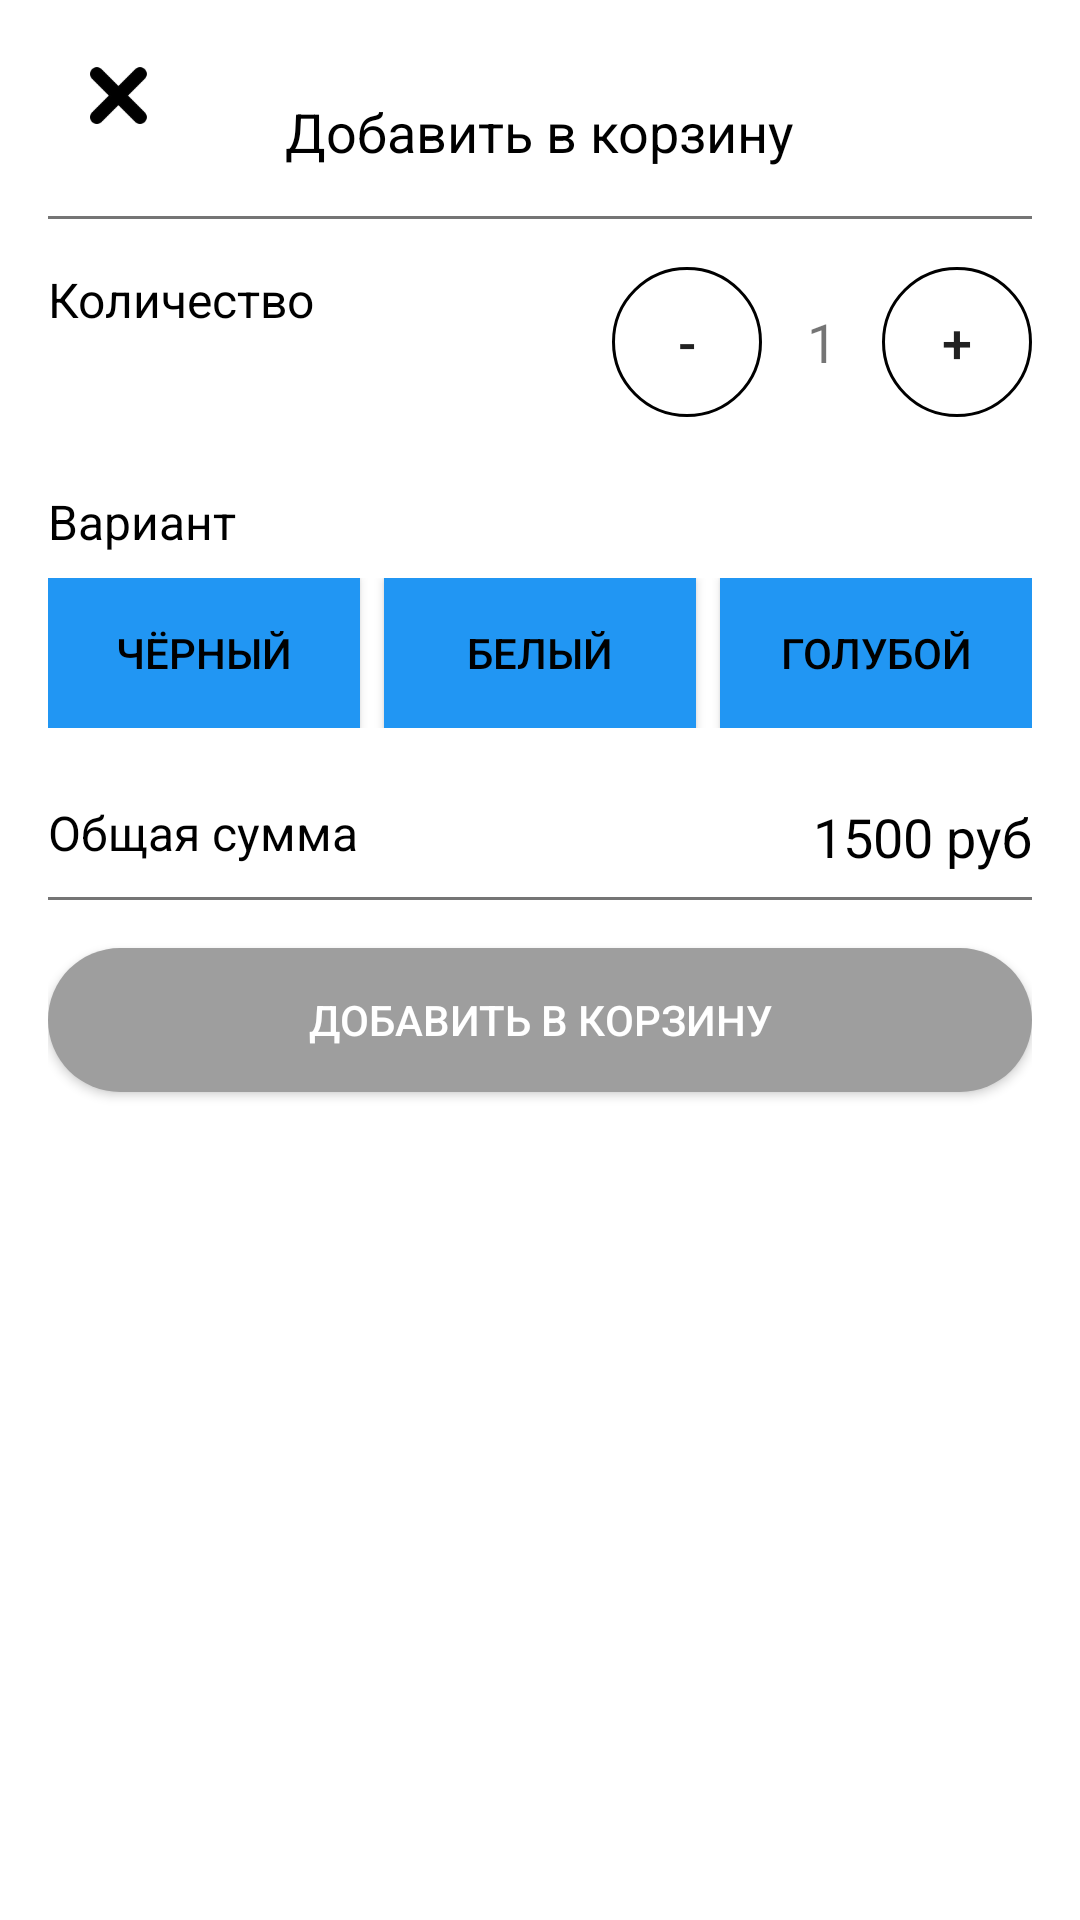

Icons on this 1080x1920 Android screen, each with the point to tap as point (x, y):
close: point (118, 95)
